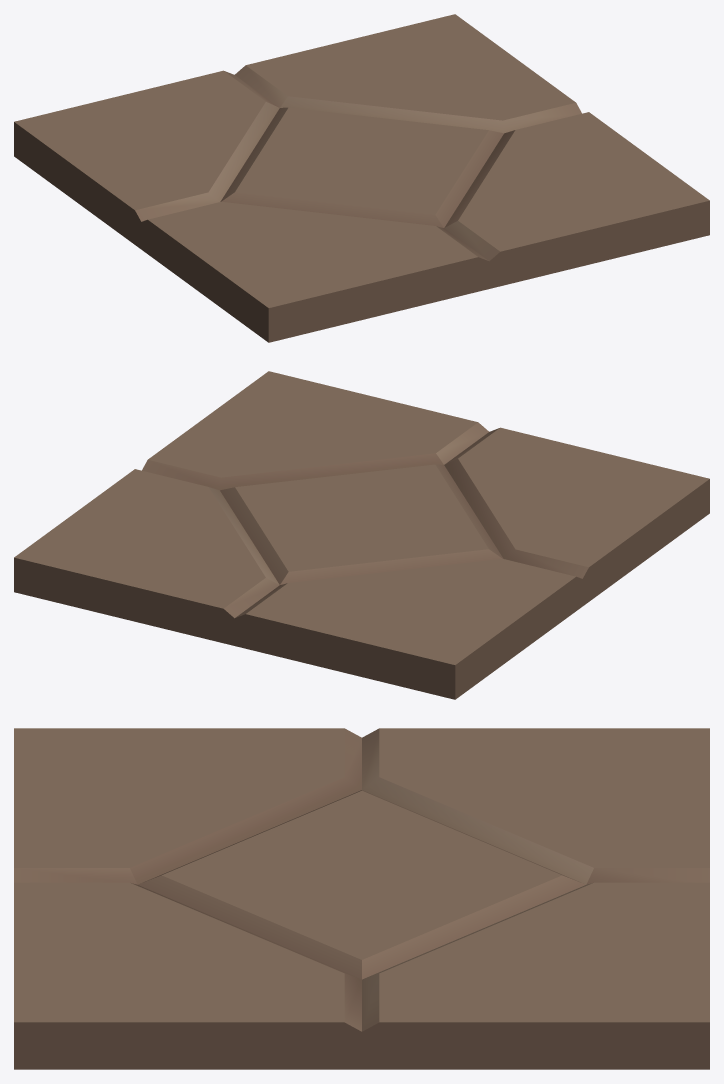
Rendered from kaykit_dungeon_floor_tile_small.glb.
The picture shows the model from 3 angles, top to bottom: view 1: azimuth 30°, elevation 25°; view 2: azimuth 150°, elevation 25°; view 3: azimuth 270°, elevation 25°; orthographic projection. The views are drawn at different scales.
Visible parts, largest first — view 1: floor_tile_small; view 2: floor_tile_small; view 3: floor_tile_small.
Part boxes in pixels (x1,y1,x2,y2): floor_tile_small: (14,14,709,342); floor_tile_small: (14,371,709,699); floor_tile_small: (14,728,709,1069).
Bounding box in the file's own units: 2 × 0.15 × 2.
Materials: 1 (1 with a texture image).
